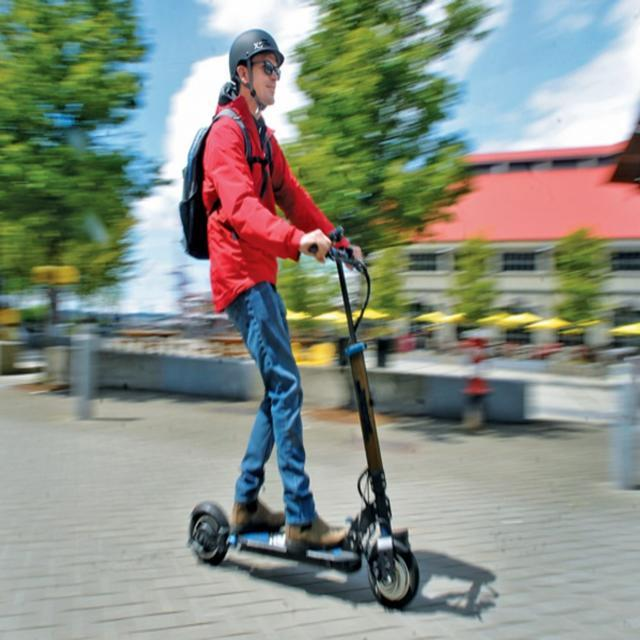Helmet: (219, 20, 290, 116)
